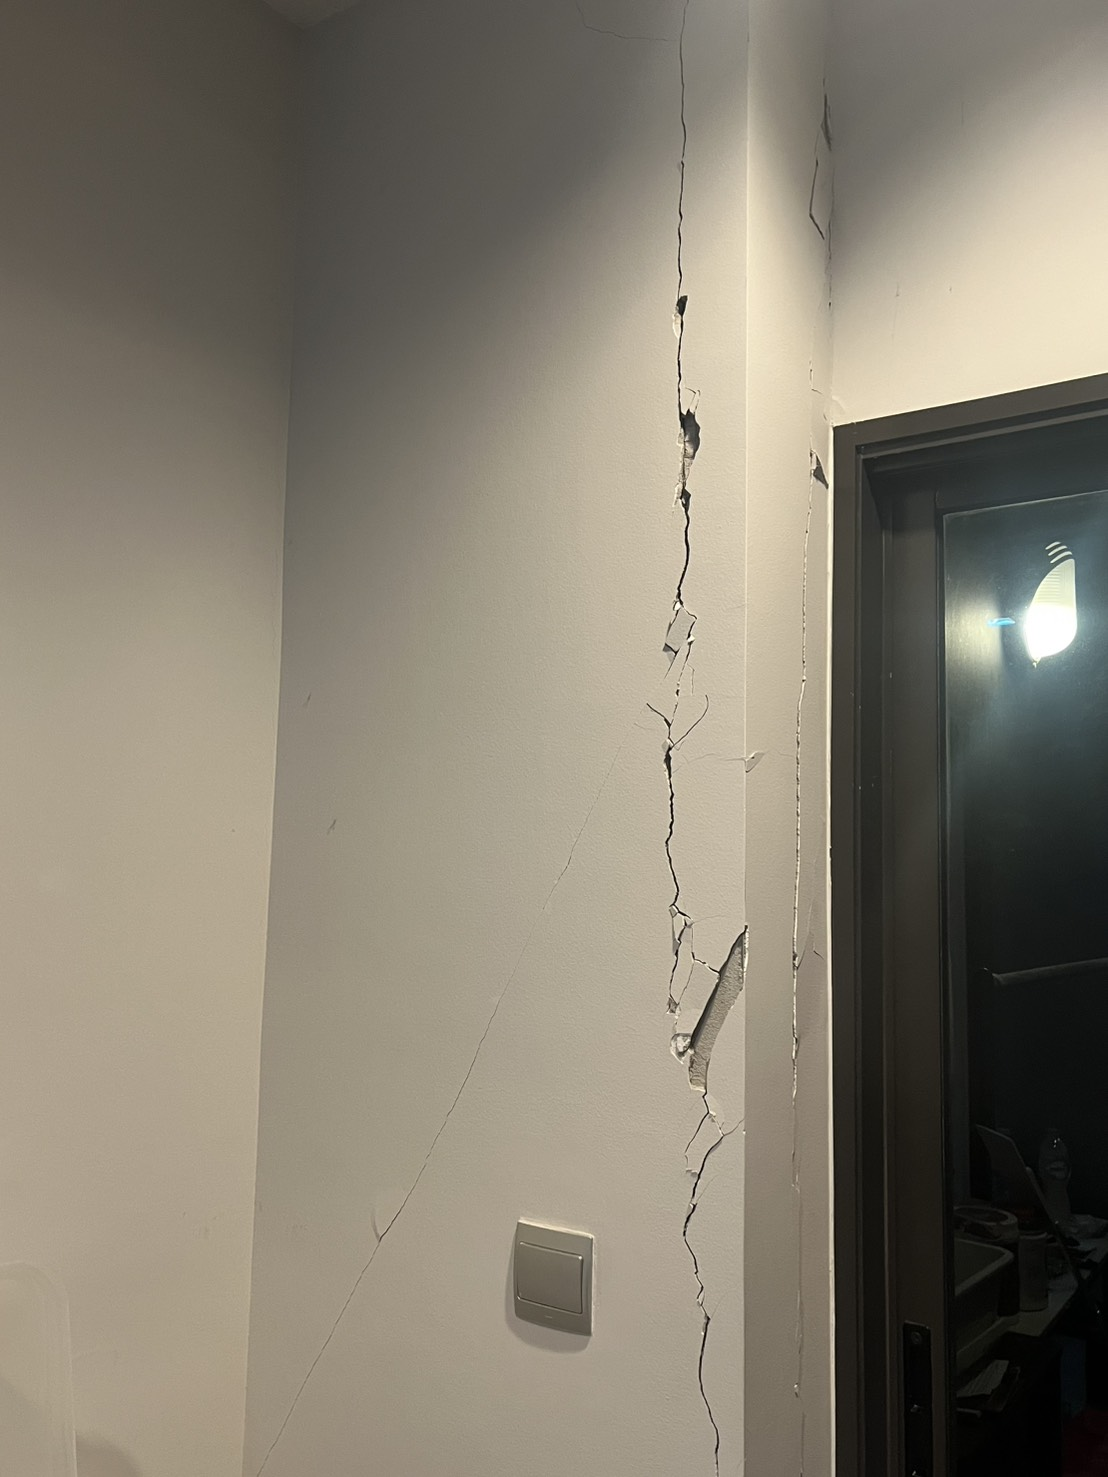Medium: (626, 118, 747, 1366)
